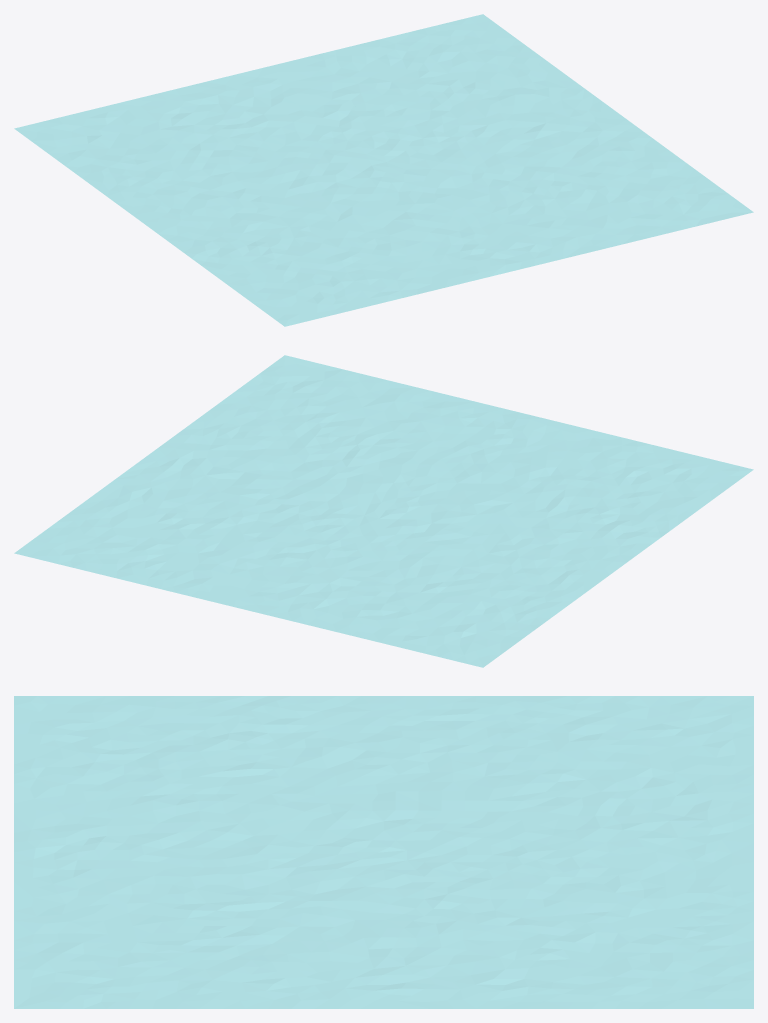
Rendered from Water_L_b_01.fbx.
The picture shows the model from 3 angles, top to bottom: view 1: azimuth 30°, elevation 25°; view 2: azimuth 150°, elevation 25°; view 3: azimuth 270°, elevation 25°; orthographic projection. The views are drawn at different scales.
Visible parts, largest first — view 1: Water_L_b_01; view 2: Water_L_b_01; view 3: Water_L_b_01.
Part boxes in pixels (x1,y1,x2,y2): Water_L_b_01: (14,14,753,326); Water_L_b_01: (14,355,753,667); Water_L_b_01: (14,696,753,1008).
Size of the model in its own units: 10000 by 20 by 10000.
